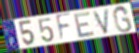5: (18, 18, 36, 47), (36, 16, 55, 43)
E: (73, 10, 97, 39)
F: (55, 11, 73, 44)
G: (112, 5, 134, 34)
V: (92, 7, 111, 35)
